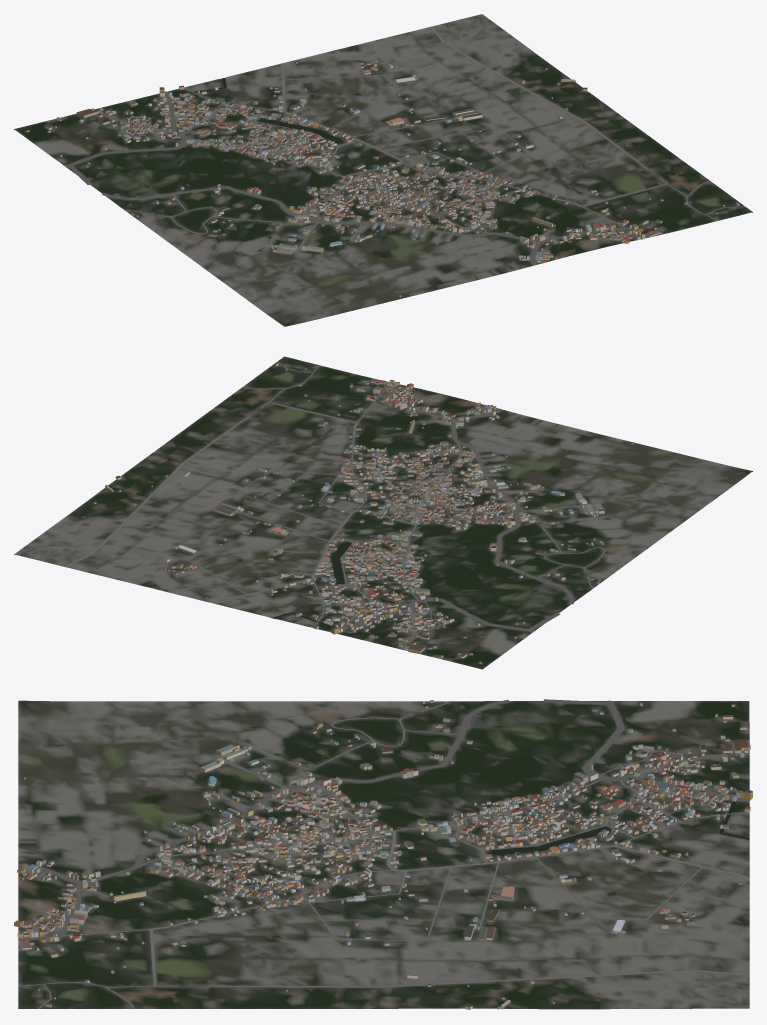
3 renders of one model, top to bottom at view 1: azimuth 30°, elevation 25°; view 2: azimuth 150°, elevation 25°; view 3: azimuth 270°, elevation 25°, orthographic. The views are drawn at different scales.
Parts seen in each view (by area): view 1: ground, buildings, roads, water; view 2: ground, buildings, roads, water; view 3: ground, buildings, roads, water.
Boxes of the visible parts, bbox=[...] form: ground: bbox=[14, 14, 752, 326]; buildings: bbox=[26, 59, 739, 296]; roads: bbox=[64, 26, 745, 265]; water: bbox=[173, 78, 343, 246]; ground: bbox=[14, 356, 752, 669]; buildings: bbox=[94, 362, 633, 663]; roads: bbox=[64, 361, 606, 649]; water: bbox=[272, 521, 622, 627]; ground: bbox=[18, 700, 749, 1009]; buildings: bbox=[14, 700, 752, 1009]; roads: bbox=[18, 699, 750, 1008]; water: bbox=[274, 721, 749, 855].
Size of the model in its own units: 1413 by 19.42 by 1417.
